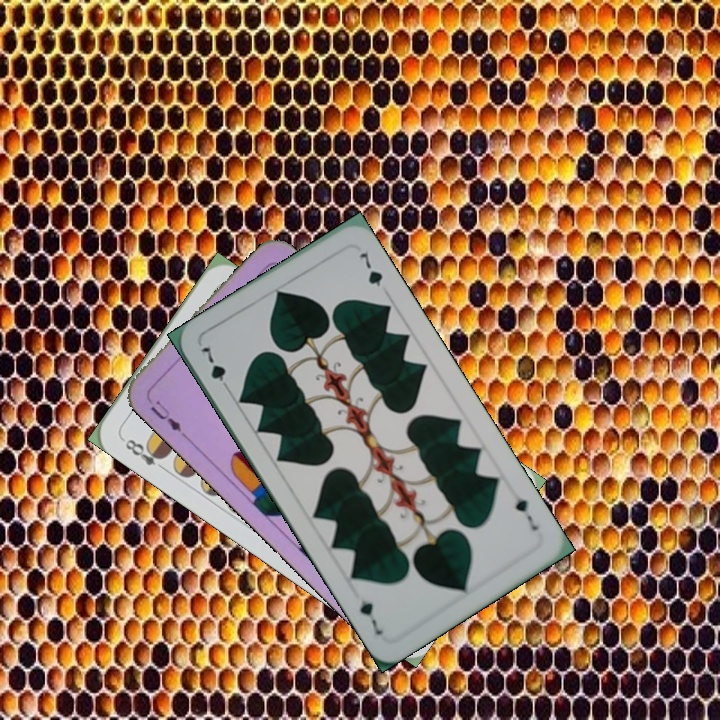E8: (118, 433, 170, 474)
EU: (144, 393, 189, 440)
G7: (196, 340, 233, 395), (511, 493, 542, 534)
